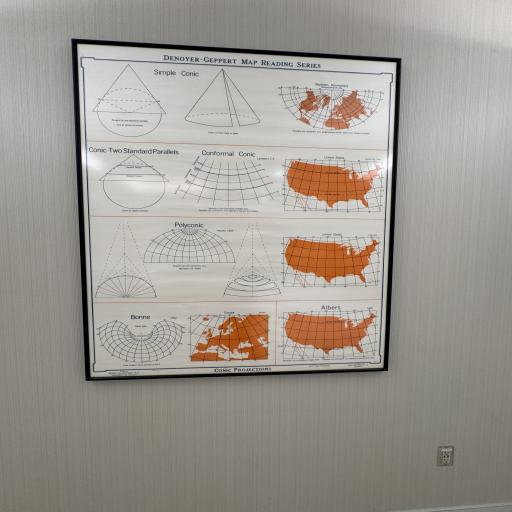outlet: (433, 444, 465, 473)
poster: (64, 35, 406, 378)
